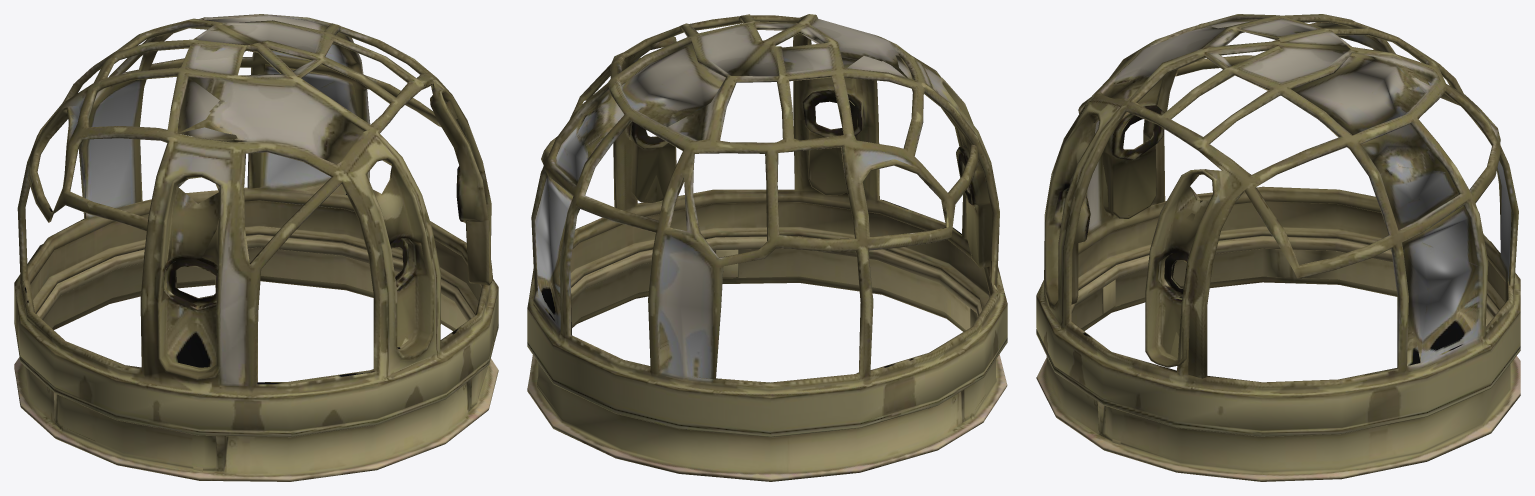
Rendered from topturret_ng_remesh.glb.
3 renders of one model, left to right at view 1: azimuth 30°, elevation 25°; view 2: azimuth 150°, elevation 25°; view 3: azimuth 270°, elevation 25°, orthographic.
Parts seen in each view (by area): view 1: tripo_node_52075941-4757-48ab-bea5-fbc8a; view 2: tripo_node_52075941-4757-48ab-bea5-fbc8a; view 3: tripo_node_52075941-4757-48ab-bea5-fbc8a.
Boxes of the visible parts, bbox=[...] form: tripo_node_52075941-4757-48ab-bea5-fbc8a: bbox=[14, 14, 498, 481]; tripo_node_52075941-4757-48ab-bea5-fbc8a: bbox=[527, 14, 1007, 481]; tripo_node_52075941-4757-48ab-bea5-fbc8a: bbox=[1036, 14, 1520, 481].
Size of the model in its own units: 0.9922 by 0.7613 by 0.9922.
1 material, 1 textured.
